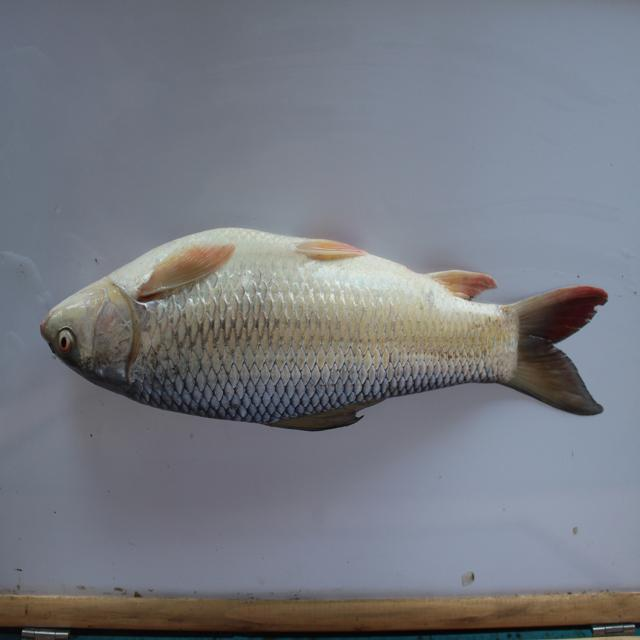Mori: (42, 201, 619, 472)
